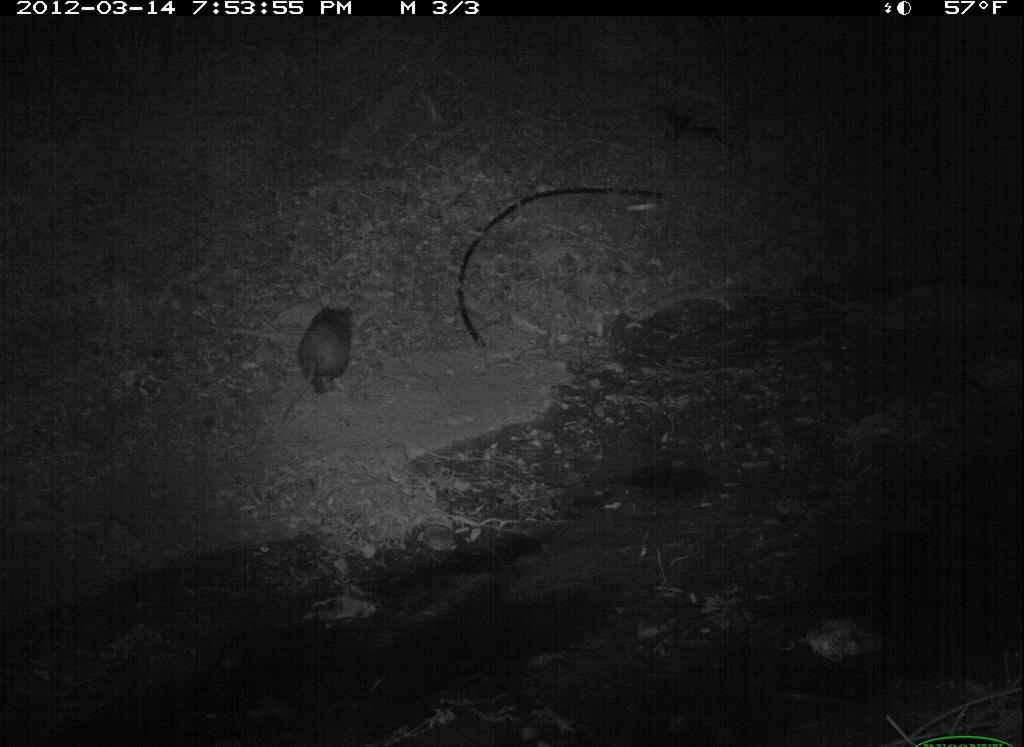opossum: (277, 299, 359, 428)
